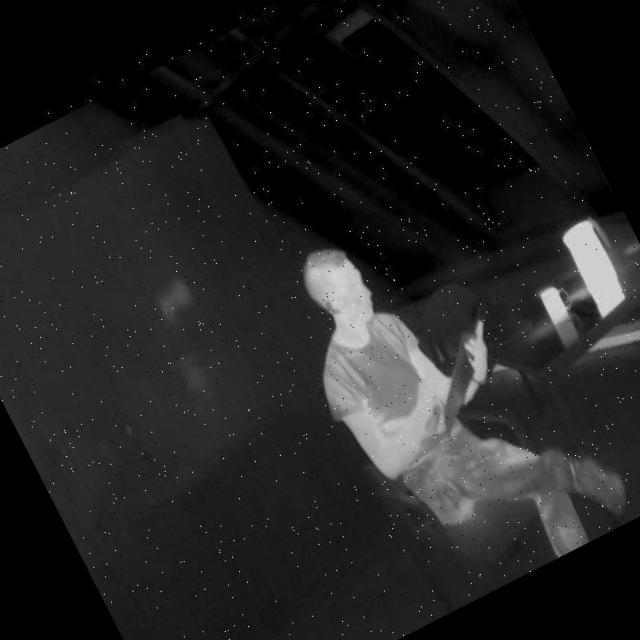person: (261, 171, 640, 620)
